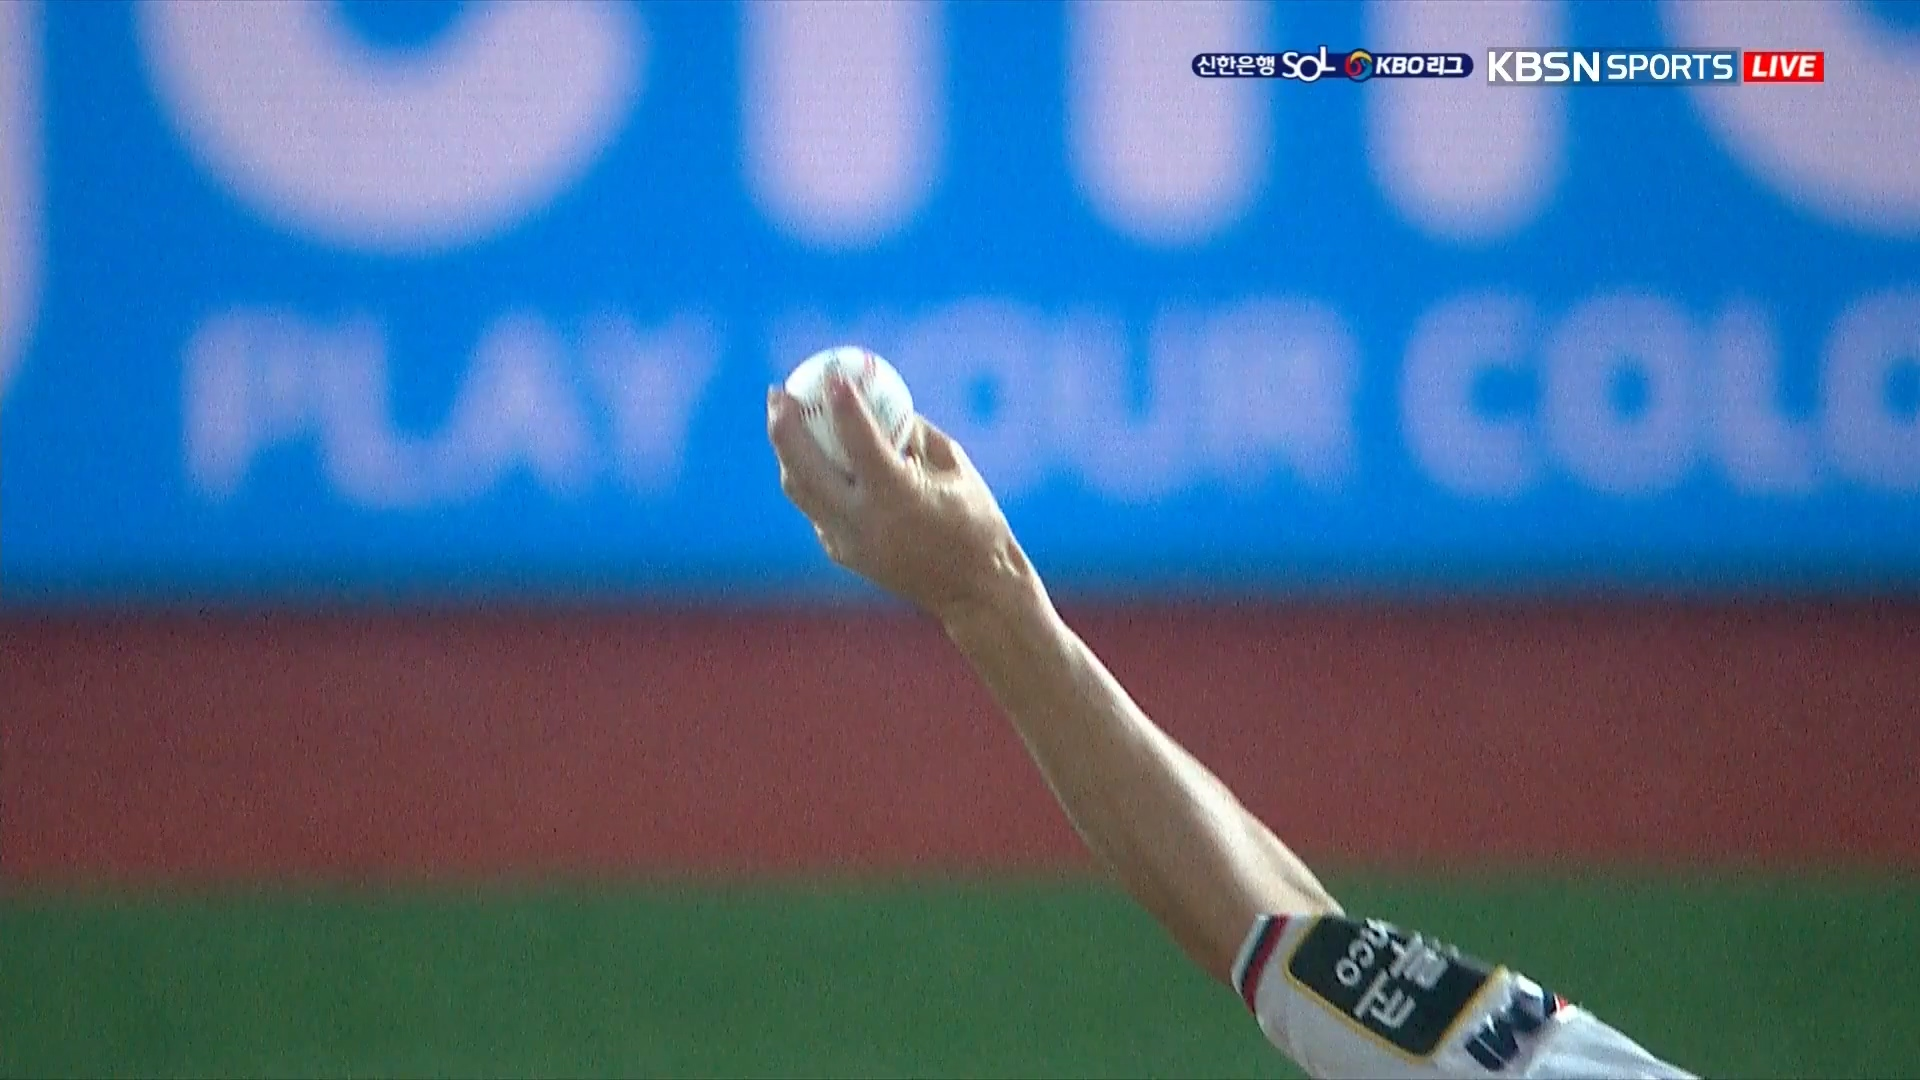zoomin_hand: (762, 338, 1342, 1001)
